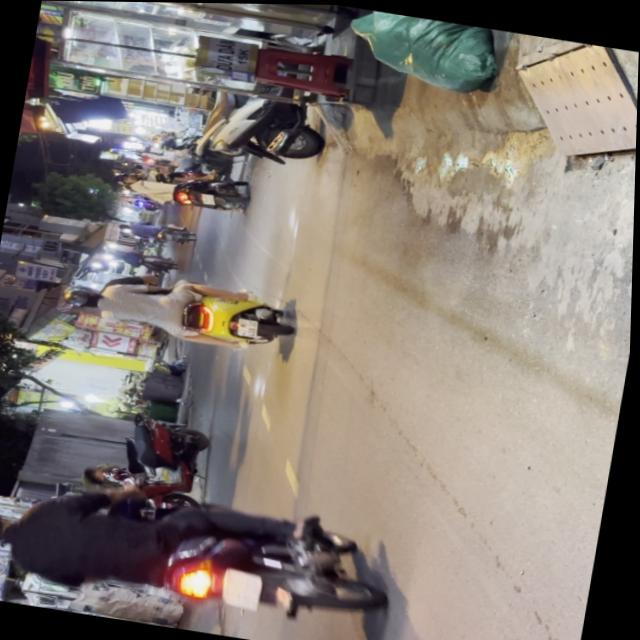helmet: (64, 286, 102, 311), (0, 508, 16, 552)
licenseplate: (0, 458, 402, 638), (58, 261, 301, 360)
nohelmet: (223, 568, 265, 610), (237, 317, 260, 336)
